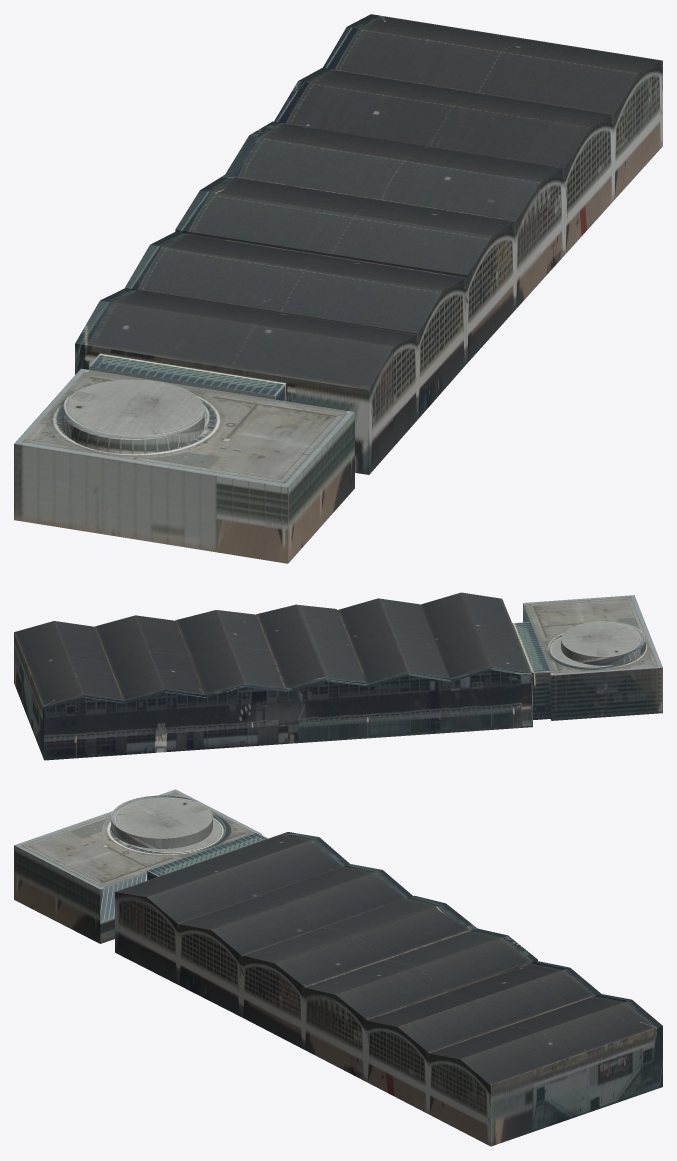
3 views of the same model, one above another, from view 1: azimuth 30°, elevation 25°; view 2: azimuth 150°, elevation 25°; view 3: azimuth 270°, elevation 25° (orthographic). The views are drawn at different scales.
Visible parts, largest first — view 1: Z_UP; view 2: Z_UP; view 3: Z_UP.
Part boxes in pixels (x1,y1,x2,y2): Z_UP: (14, 14, 662, 563); Z_UP: (14, 592, 662, 760); Z_UP: (14, 789, 662, 1146).
Size of the model in its own units: 131 by 14.45 by 118.
25 materials, 24 textured.
